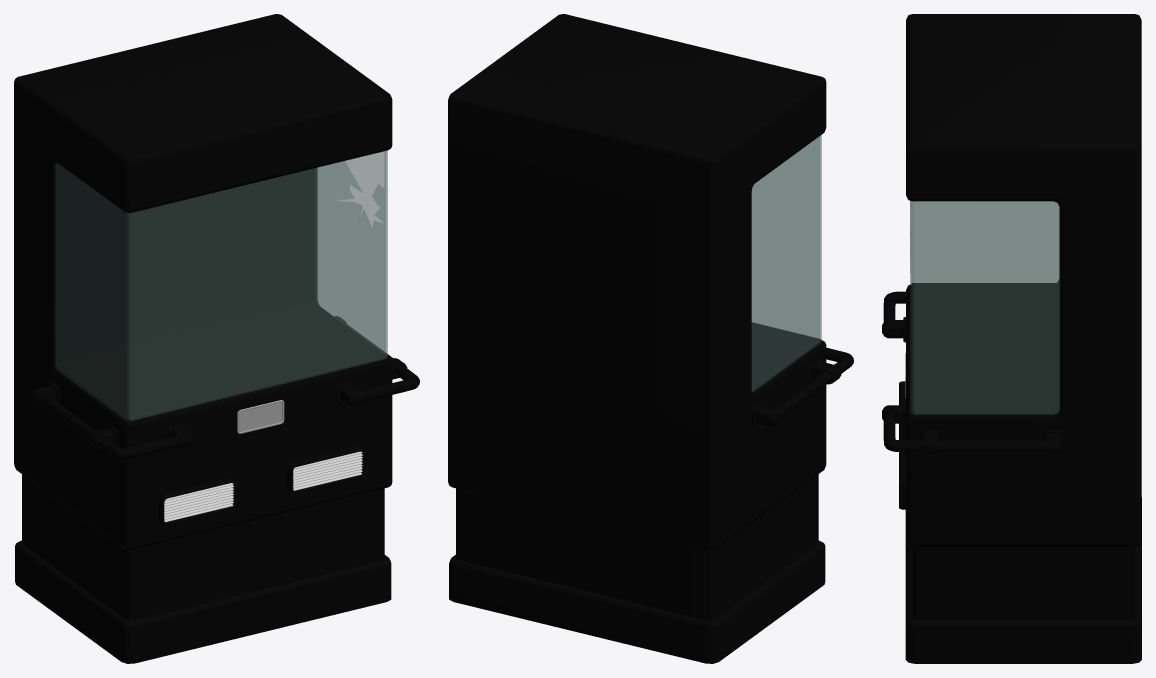
The model's file is LabIncubator01.fbx.
3 views of the same model, side by side, from view 1: azimuth 30°, elevation 25°; view 2: azimuth 150°, elevation 25°; view 3: azimuth 270°, elevation 25° (orthographic). The views are drawn at different scales.
Visible parts, largest first — view 1: Incubator, Glass, BMB; view 2: Incubator, Glass; view 3: Incubator, Glass.
Boxes of the visible parts, bbox=[...] form: Incubator: bbox=[14, 14, 419, 663]; Glass: bbox=[54, 150, 387, 420]; BMB: bbox=[237, 400, 284, 433]; Incubator: bbox=[448, 14, 853, 663]; Glass: bbox=[751, 135, 821, 391]; Incubator: bbox=[882, 14, 1141, 663]; Glass: bbox=[910, 200, 1059, 414].
Size of what is drawn, in the model's own units: 154 by 239 by 108.
